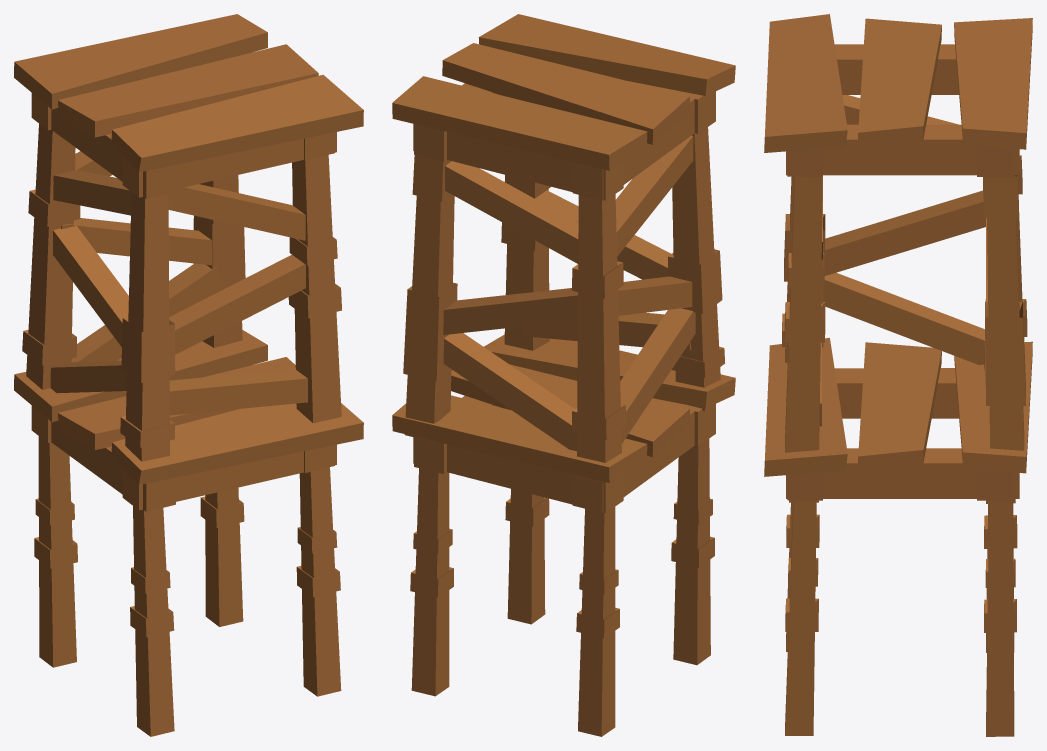
The model's file is toweramasoruncikarsavideobiter.fbx.
3 views of the same model, side by side, from view 1: azimuth 30°, elevation 25°; view 2: azimuth 150°, elevation 25°; view 3: azimuth 270°, elevation 25° (orthographic). The views are drawn at different scales.
Parts seen in each view (by area): view 1: AnyConv.com__towerunity, ayak4, ayak2, ayak3, ayak1; view 2: AnyConv.com__towerunity, ayak3, ayak1, ayak4, ayak2; view 3: AnyConv.com__towerunity, ayak2, ayak1, ayak3, ayak4.
Boxes of the visible parts, left/top/right/bottom form: AnyConv.com__towerunity: left=14, top=14, right=363, bottom=511; ayak4: left=130, top=506, right=174, bottom=736; ayak2: left=296, top=467, right=341, bottom=696; ayak3: left=34, top=436, right=77, bottom=667; ayak1: left=200, top=487, right=244, bottom=626; AnyConv.com__towerunity: left=392, top=14, right=735, bottom=512; ayak3: left=576, top=507, right=619, bottom=736; ayak1: left=410, top=468, right=453, bottom=696; ayak4: left=671, top=439, right=714, bottom=665; ayak2: left=505, top=489, right=549, bottom=624; AnyConv.com__towerunity: left=764, top=14, right=1032, bottom=500; ayak2: left=785, top=500, right=818, bottom=735; ayak1: left=984, top=500, right=1016, bottom=736; ayak3: left=984, top=499, right=1017, bottom=652; ayak4: left=786, top=500, right=819, bottom=651.
Size of the model in its own units: 1182 by 3058 by 1204.
